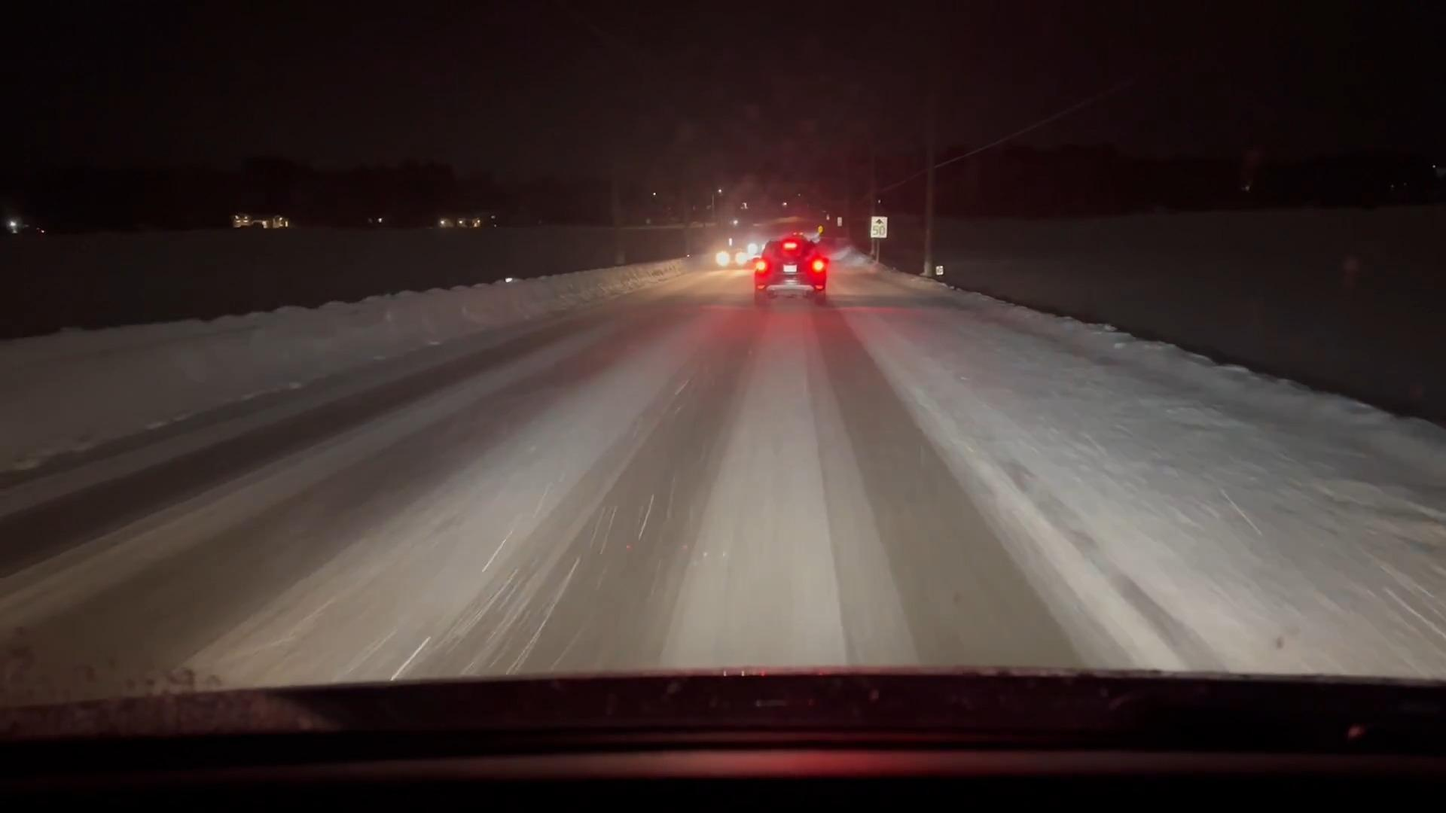Snow: (0, 254, 1445, 690)
